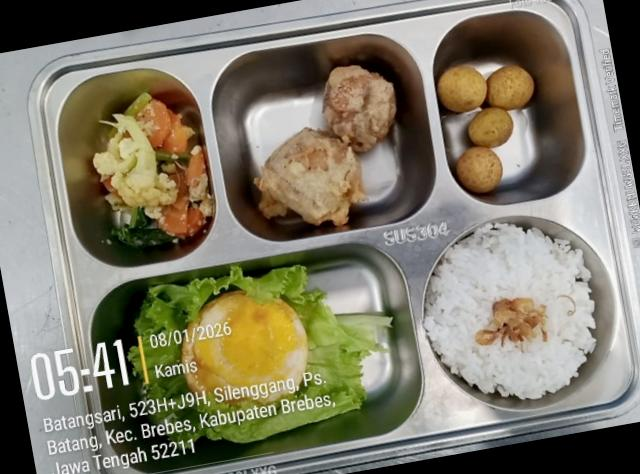buah: (456, 108, 511, 194)
nasi: (424, 223, 596, 399)
sayur: (134, 265, 397, 443), (93, 92, 214, 248)
tahu: (255, 65, 396, 225)
telur: (182, 292, 309, 404)
